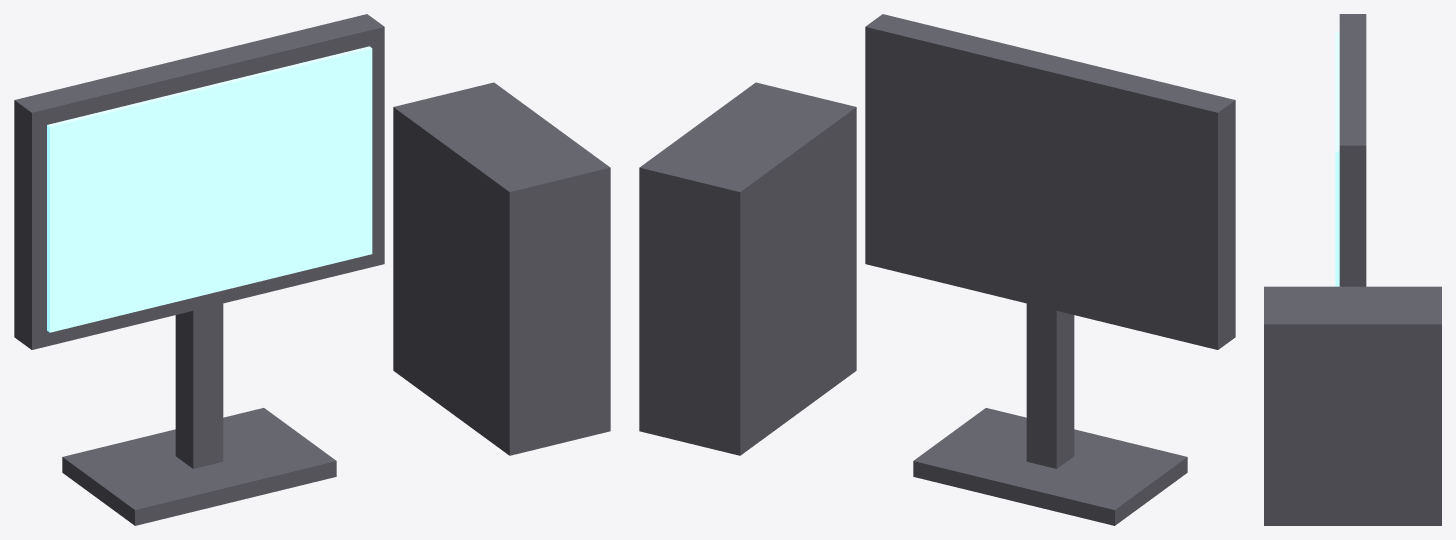
Rendered from computer1.glb.
3 renders of one model, left to right at view 1: azimuth 30°, elevation 25°; view 2: azimuth 150°, elevation 25°; view 3: azimuth 270°, elevation 25°, orthographic. The views are drawn at different scales.
Bounding box in the file's own units: 1.05 × 0.78 × 0.4.
